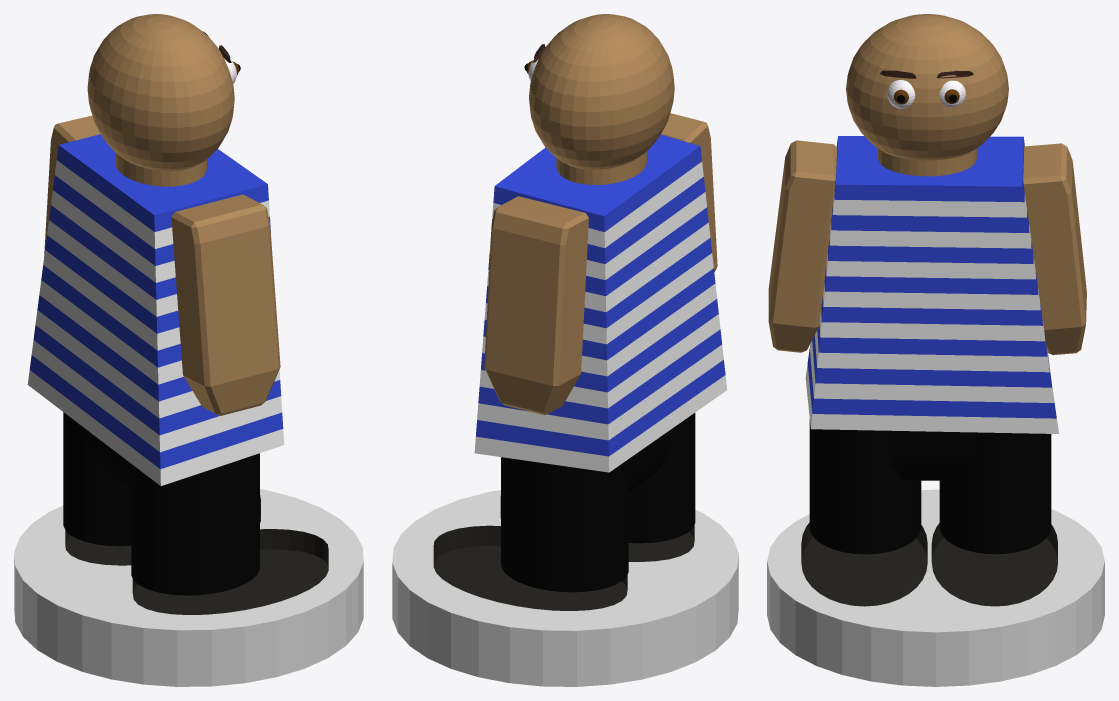
The model's file is MainFigure (3).fbx.
3 views of the same model, side by side, from view 1: azimuth 30°, elevation 25°; view 2: azimuth 150°, elevation 25°; view 3: azimuth 270°, elevation 25° (orthographic). The views are drawn at different scales.
Visible parts, largest first — view 1: Cube, Cylinder, Cube.001, Sphere, Cylinder.006, Cylinder.001, Cylinder.007, Cylinder.010, Cylinder.004, Cube.002, Cylinder.002; view 2: Cube, Cylinder, Cube.002, Sphere, Cylinder.007, Cylinder.002, Cylinder.006, Cube.001, Cylinder.010, Cylinder.004, Cylinder.001; view 3: Cube, Cylinder, Sphere, Cylinder.006, Cylinder.007, Cube.001, Cube.002, Cylinder.002, Cylinder.001, Cylinder.009, Cylinder.004, Sphere.004 (+1 smaller).
Boxes of the visible parts, box(x1,y1,x2,y2) form: Cube: box(27, 134, 284, 485); Cylinder: box(14, 489, 363, 686); Cube.001: box(171, 194, 280, 415); Sphere: box(87, 14, 234, 171); Cylinder.006: box(131, 453, 259, 595); Cylinder.001: box(132, 529, 328, 614); Cylinder.007: box(63, 412, 131, 546); Cylinder.010: box(81, 426, 132, 494); Cylinder.004: box(115, 152, 206, 186); Cube.002: box(44, 115, 100, 254); Cylinder.002: box(65, 495, 260, 565); Cube: box(474, 134, 727, 472); Cylinder: box(392, 490, 738, 686); Cube.002: box(484, 196, 588, 415); Sphere: box(529, 14, 674, 169); Cylinder.007: box(501, 457, 628, 592); Cylinder.002: box(433, 525, 627, 610); Cylinder.006: box(628, 413, 695, 543); Cube.001: box(661, 113, 717, 272); Cylinder.010: box(627, 425, 677, 492); Cylinder.004: box(556, 151, 646, 184); Cylinder.001: box(500, 496, 694, 561); Cube: box(805, 136, 1058, 433); Cylinder: box(767, 489, 1104, 686); Sphere: box(846, 14, 1008, 160); Cylinder.006: box(809, 420, 921, 554); Cylinder.007: box(939, 432, 1051, 554); Cube.001: box(768, 140, 837, 352); Cube.002: box(1023, 143, 1086, 355); Cylinder.002: box(931, 523, 1057, 606); Cylinder.001: box(801, 522, 927, 606); Cylinder.009: box(885, 430, 976, 480); Cylinder.004: box(878, 148, 976, 176); Sphere.004: box(887, 80, 915, 108).
Bounding box in the file's own units: 800 × 1518 × 800.
